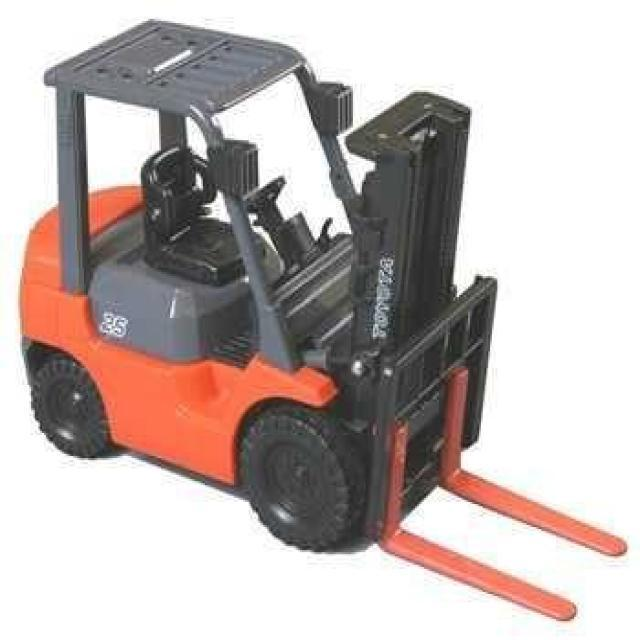forklift: (18, 19, 501, 550)
